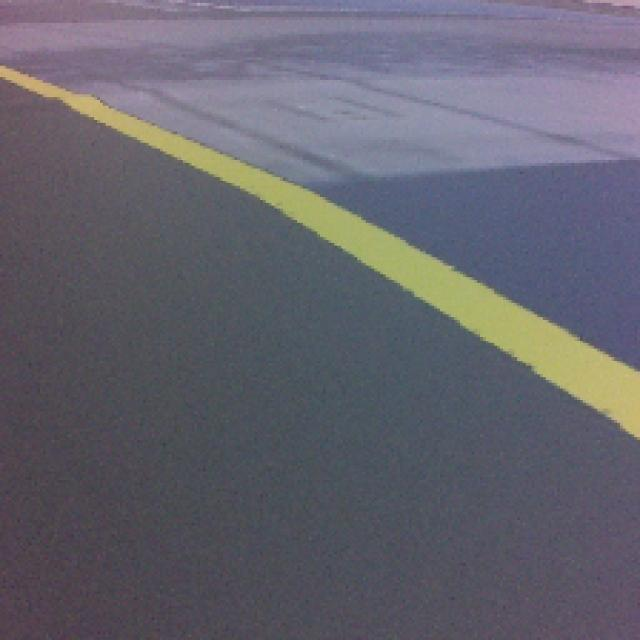Road: (3, 437, 640, 640)
